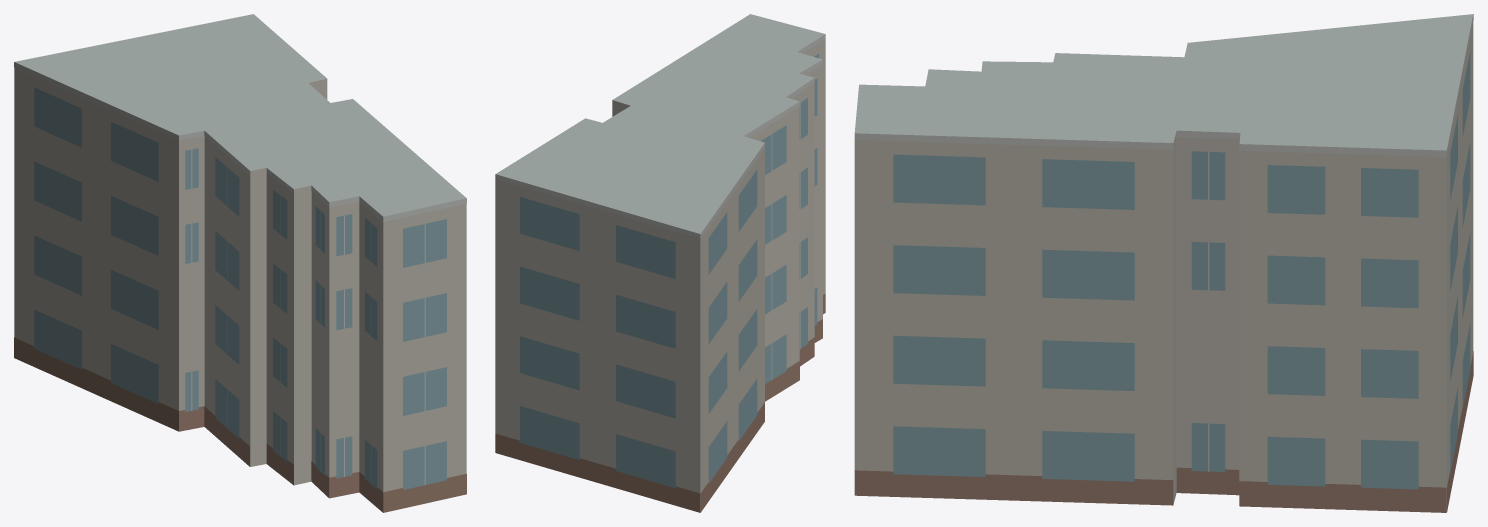
File: survey-upis-32617402.glb
3 renders of one model, left to right at view 1: azimuth 30°, elevation 25°; view 2: azimuth 150°, elevation 25°; view 3: azimuth 270°, elevation 25°, orthographic. The views are drawn at different scales.
Visible parts, largest first — view 1: survey-upis-32617402.tmp; view 2: survey-upis-32617402.tmp; view 3: survey-upis-32617402.tmp.
Part boxes in pixels (box(x1,y1,x2,y2)): survey-upis-32617402.tmp: box(14, 14, 466, 512); survey-upis-32617402.tmp: box(495, 14, 825, 512); survey-upis-32617402.tmp: box(854, 14, 1473, 512).
Bounding box in the file's own units: 10.92 × 13.5 × 20.9.
